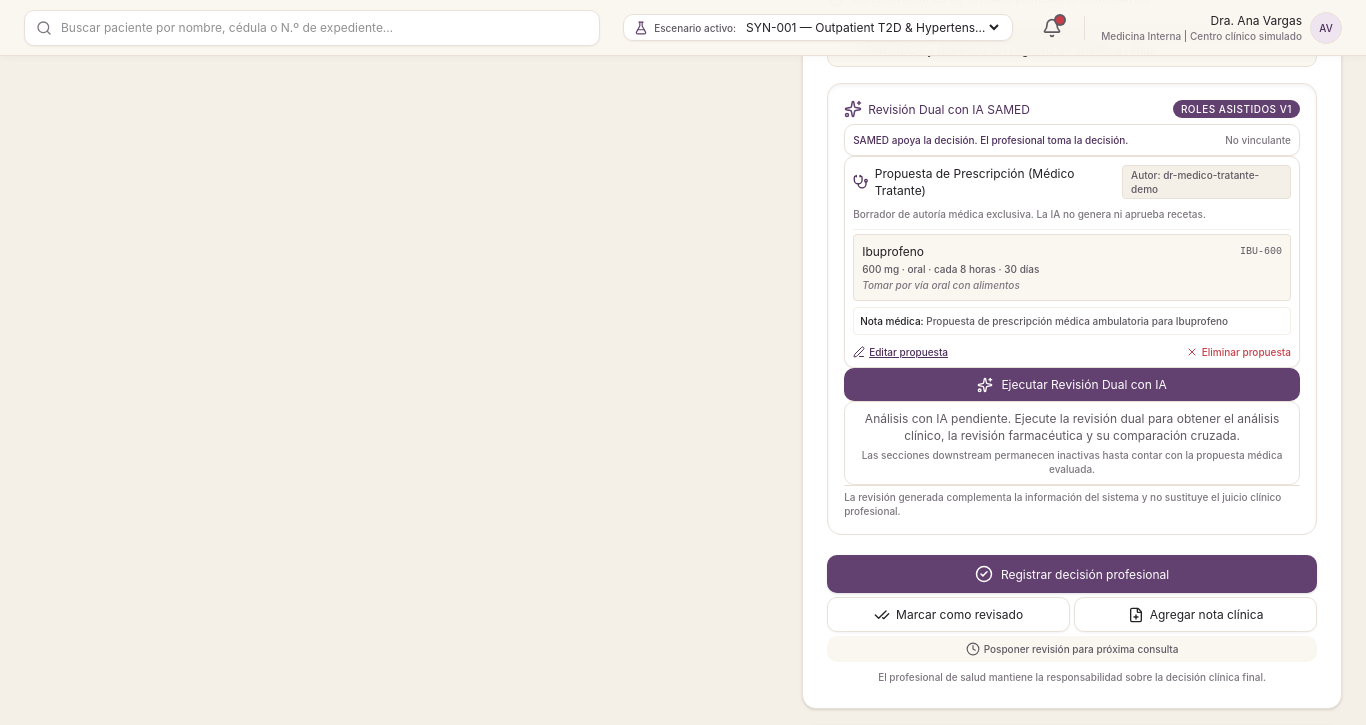
Scenario: MedicationReview — SAMED Visual Baseline v1 › executes Dual AI review and progressively displays Clinical Assistant, Pharmacy Assistant, and neutral Comparison without declaring a winner
The width and height of the screenshot is (1366, 725).
(page scrolled)
Expected: the text "Análisis con IA pendiente" is shown, 865,411 -> 1279,443
Note: Click run button
Click the button "Ejecutar Revisión Dual con IA": {"x": 1072, "y": 384} 844,368 -> 1300,401
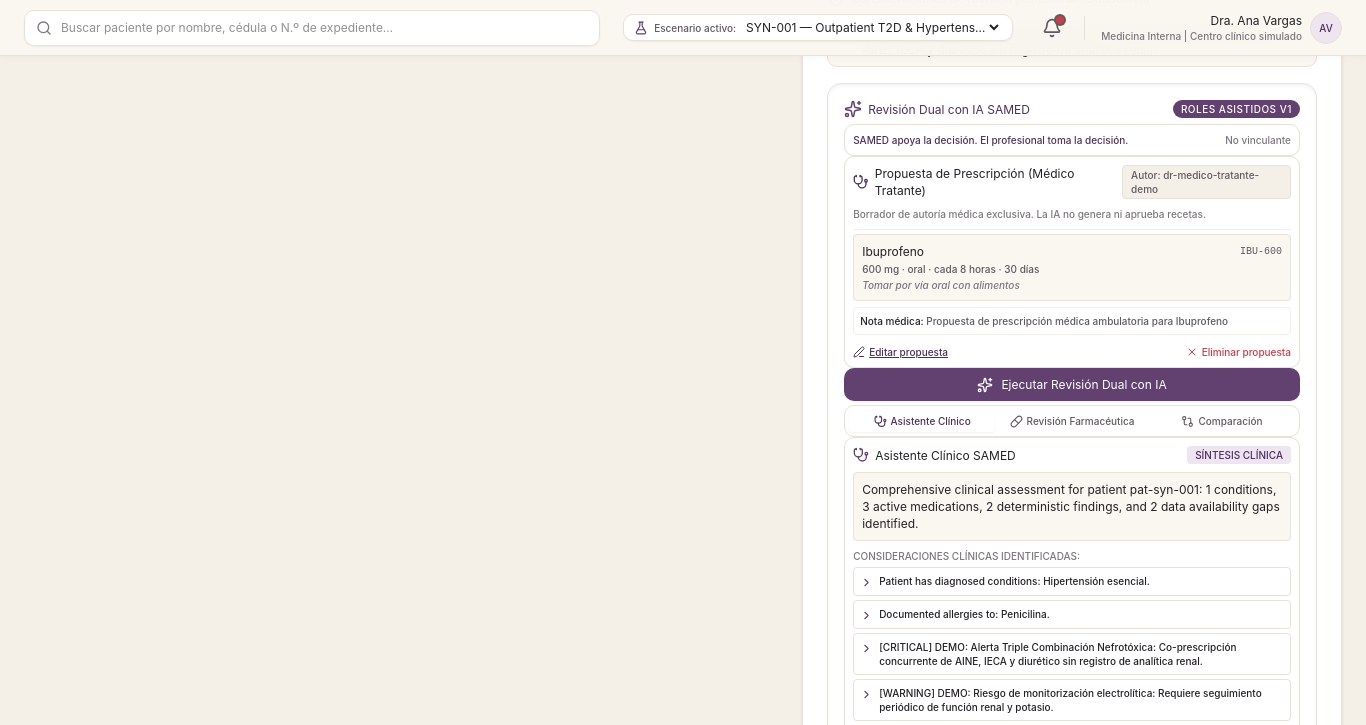
Expected: the text "Síntesis Clínica" is shown, 1187,446 -> 1291,464
Note: Switch to Pharmacy Assistant tab
Click the tab "Revisión Farmacéutica": {"x": 1072, "y": 421} 999,410 -> 1145,432
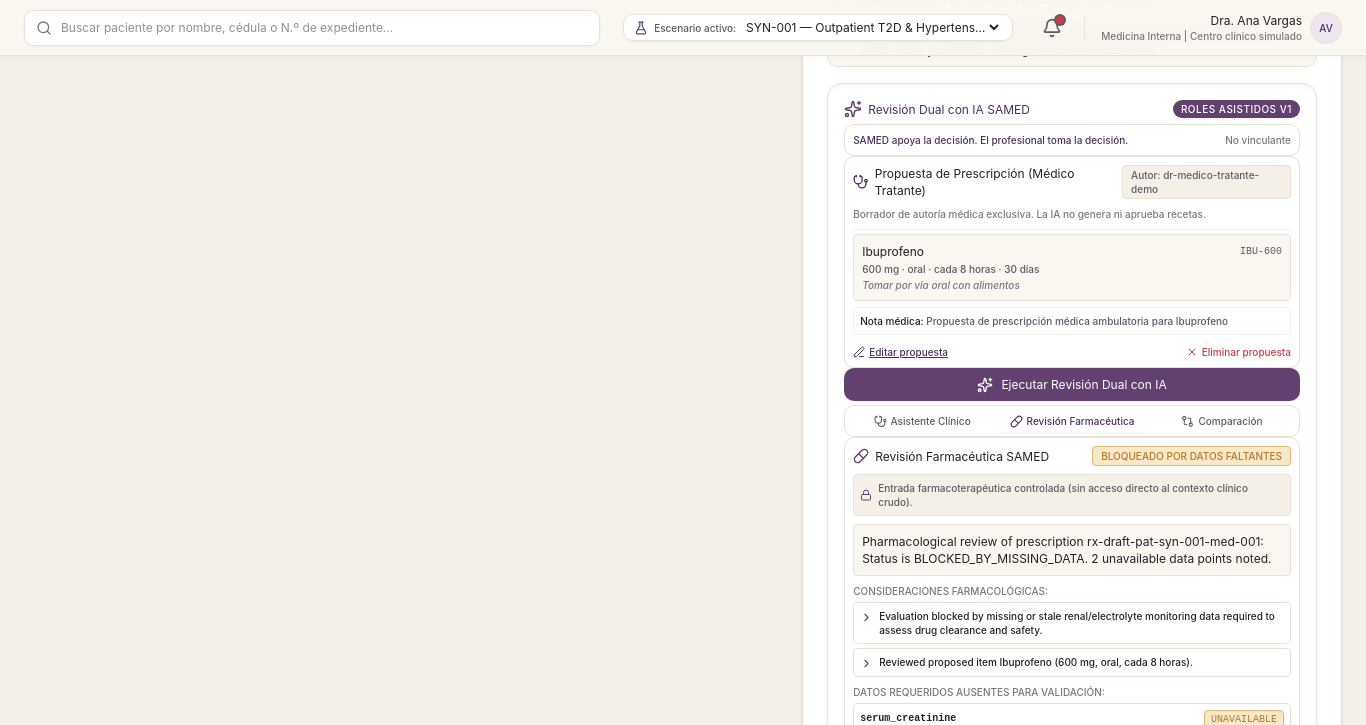
Expected: the text "BLOQUEADO POR DATOS FALTANTES" is shown, 1092,446 -> 1291,466
Expected: the text "entrada farmacoterapéutica controlada (sin acceso directo al contexto clínico crudo)." is shown, 878,482 -> 1248,508
Expected: the text "Datos requeridos ausentes para validación:" is shown, 853,686 -> 1105,698
Note: Switch to Comparison tab
Click the tab "Comparación": {"x": 1222, "y": 421} 1149,410 -> 1295,432
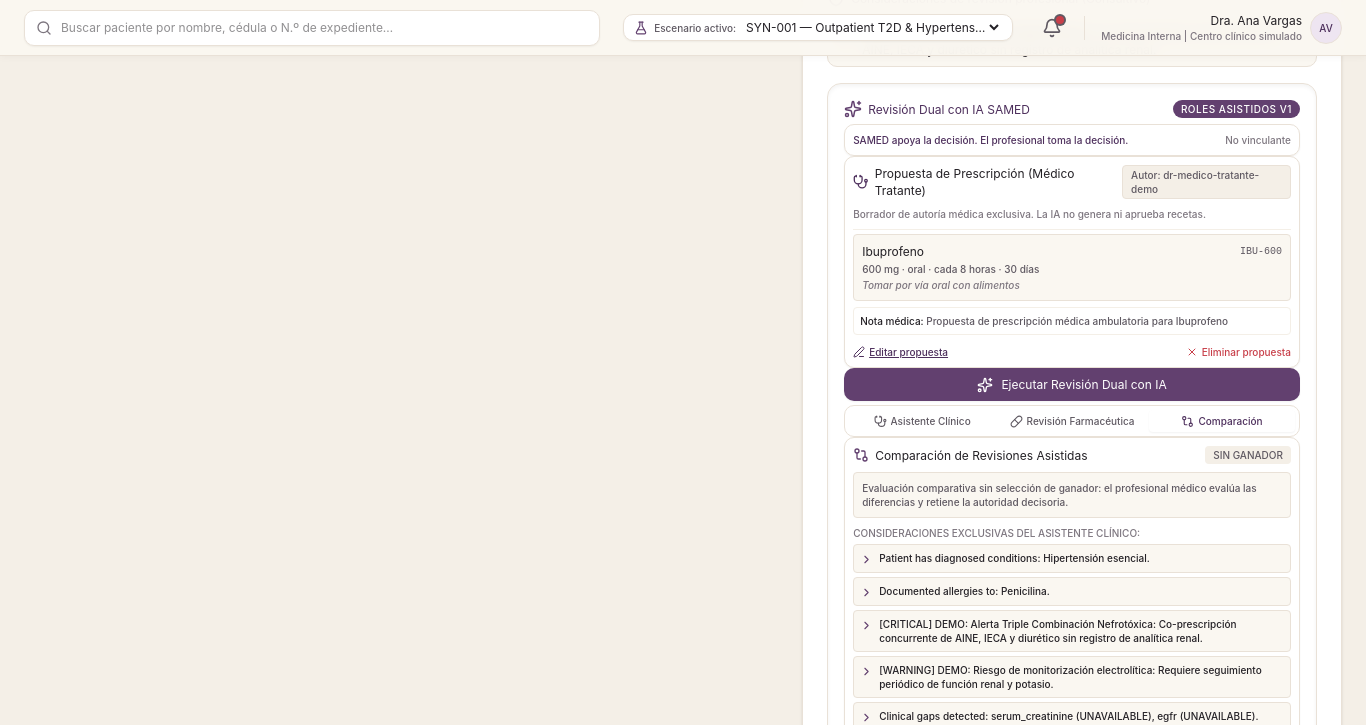
Expected: the text "Sin Ganador" is shown, 1205,446 -> 1291,464
Expected: the text "evaluación comparativa sin selección de ganador: el profesional médico evalúa las diferencias y retiene la autoridad dec" is shown, 862,482 -> 1257,508
